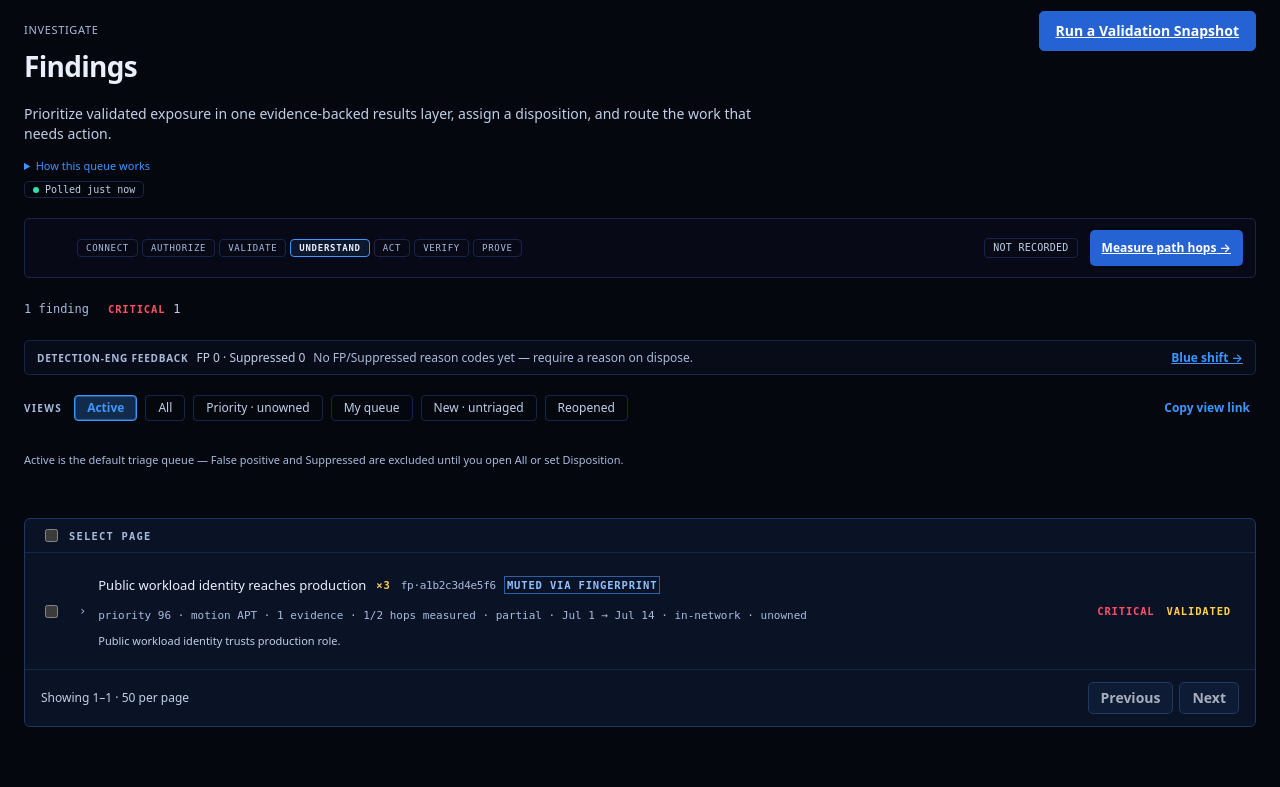
it: FindingsWorkbench v2 › shows Muted via fingerprint badge when disposition is inherited (ICP-P1-1)
Click the button with aria-label "Expand finding: Public workload identity reaches production" at (656, 611), box 73,562 -> 1239,660
(page scrolled)
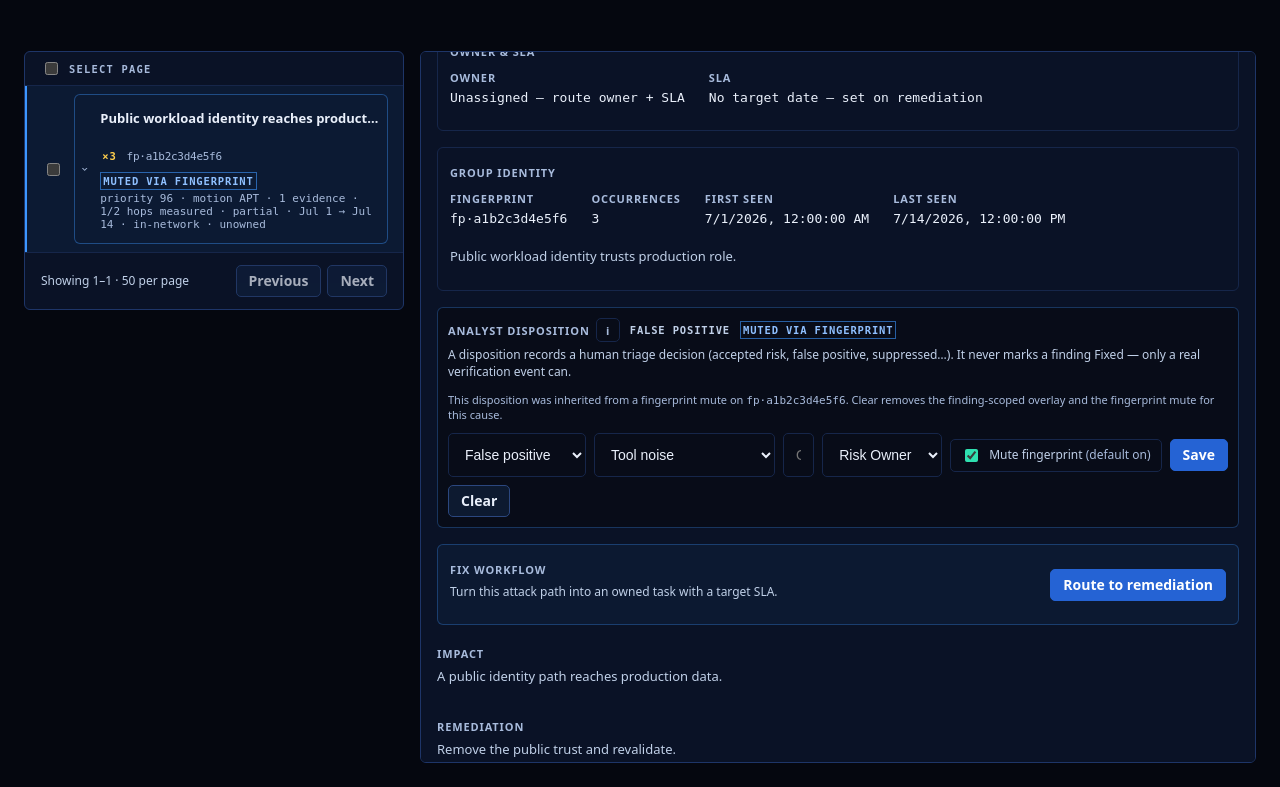
Result: the text with test id "disposition-muted-via-fingerprint" is shown at 740,321 -> 896,339
Result: the element with test id "disposition-inherited-note" shows "inherited from a fingerprint mute" at 448,392 -> 743,407
